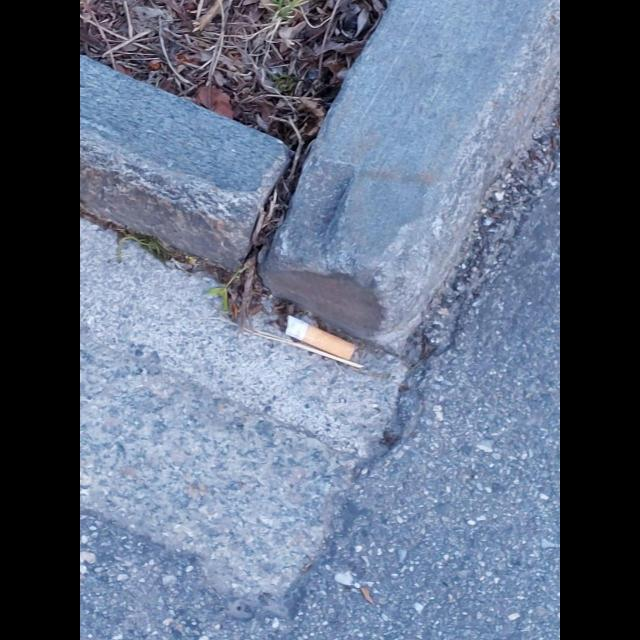cigarette: (280, 315, 357, 361)
